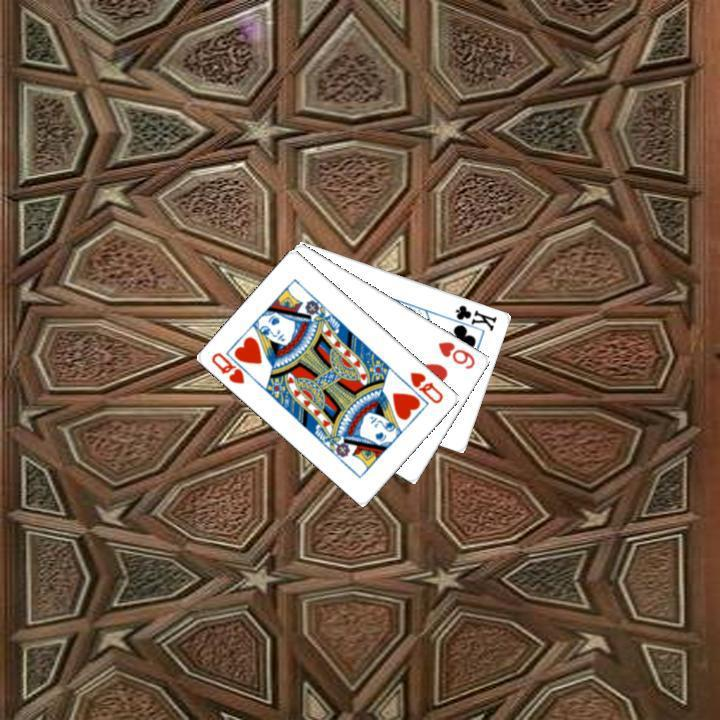6: (434, 337, 477, 371)
K: (444, 300, 499, 335)
Q: (207, 347, 258, 386), (406, 367, 446, 406)
